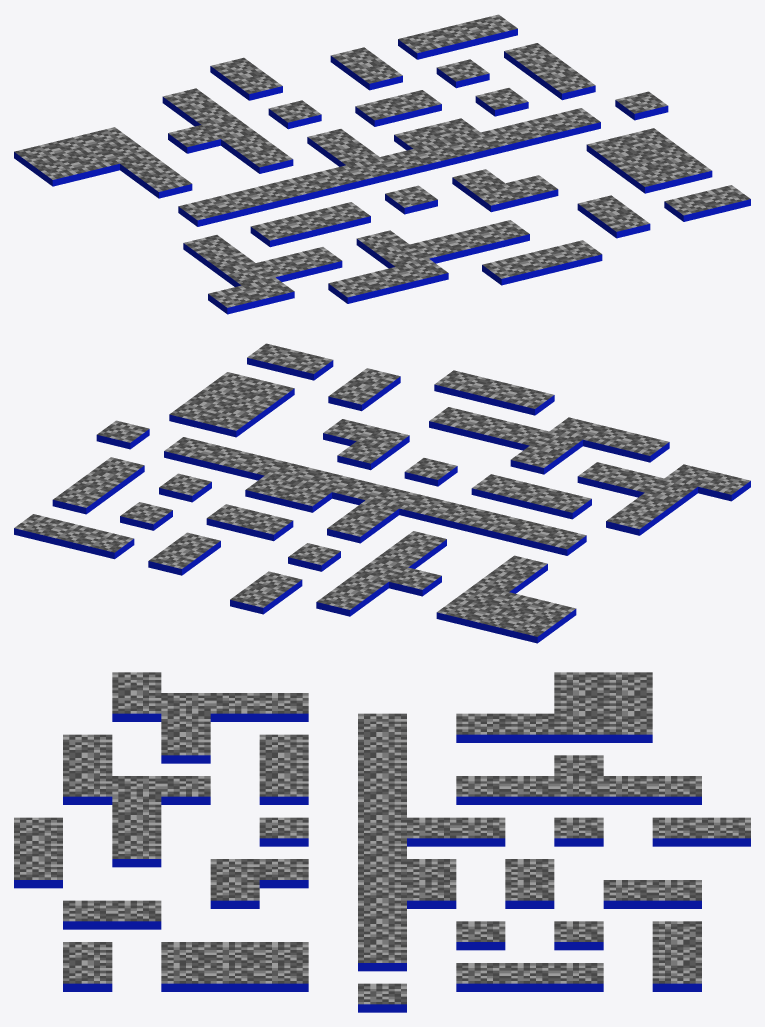
Rendered from st_level_01_Test4.FBX.
The picture shows the model from 3 angles, top to bottom: view 1: azimuth 30°, elevation 25°; view 2: azimuth 150°, elevation 25°; view 3: azimuth 270°, elevation 25°; orthographic projection. The views are drawn at different scales.
Parts seen in each view (by area): view 1: Object001; view 2: Object001; view 3: Object001.
Part boxes in pixels (x1,y1,x2,y2): Object001: (14, 14, 750, 314); Object001: (14, 343, 750, 643); Object001: (14, 672, 750, 1012).
Size of the model in its own units: 2560 by 30 by 2400.
